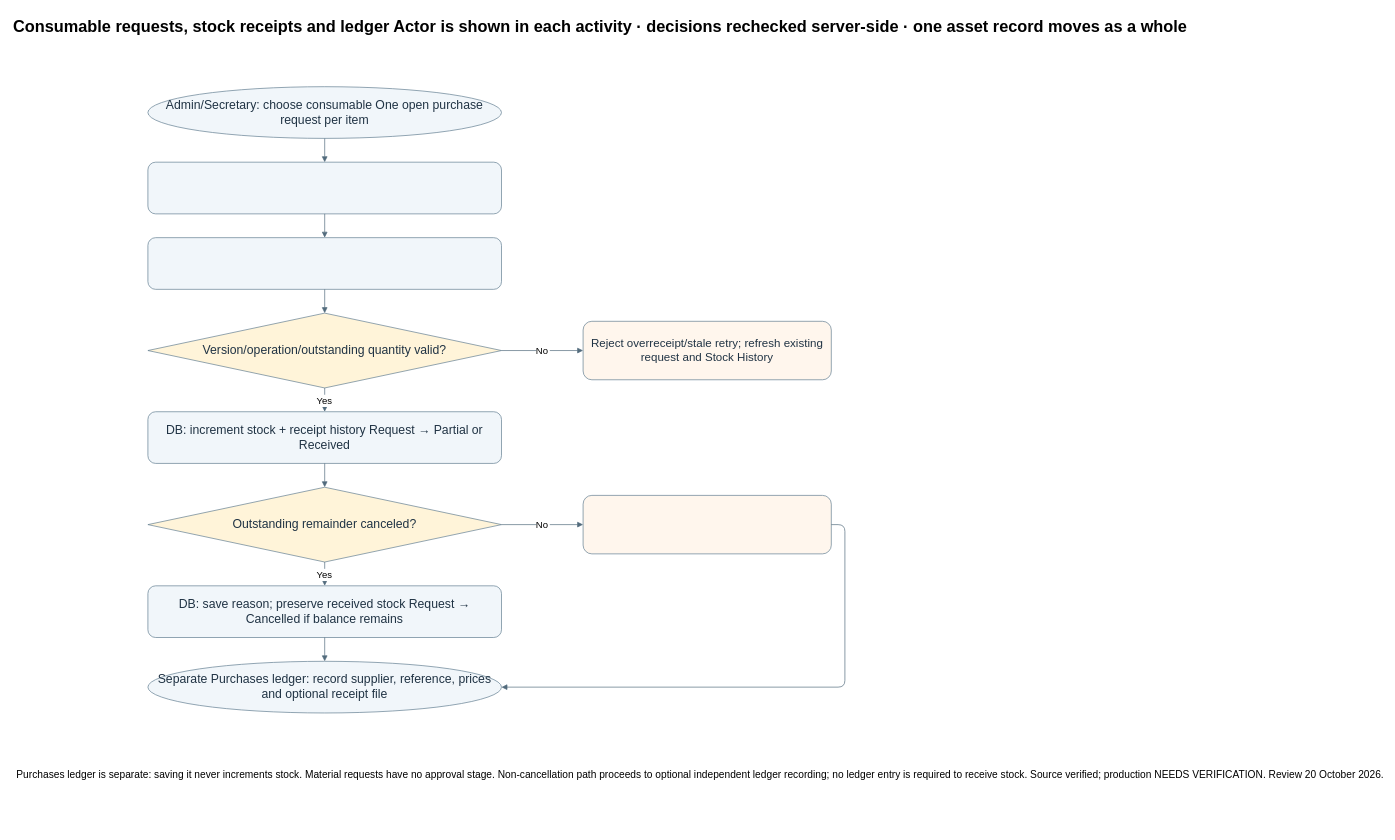
Some shapes in this 1395 by 840 pixel diagram are drawn without their labels. The centre of each missing label's shape, as x and y in pixels:
Admin/Secretary: enter physical receipt quantity and evidence note: point (324, 263)
DB: save Pending material request Purpose/decimal/date checks; stock unchanged: point (324, 188)
No cancellation: remain Partial or fully Received: point (706, 524)
